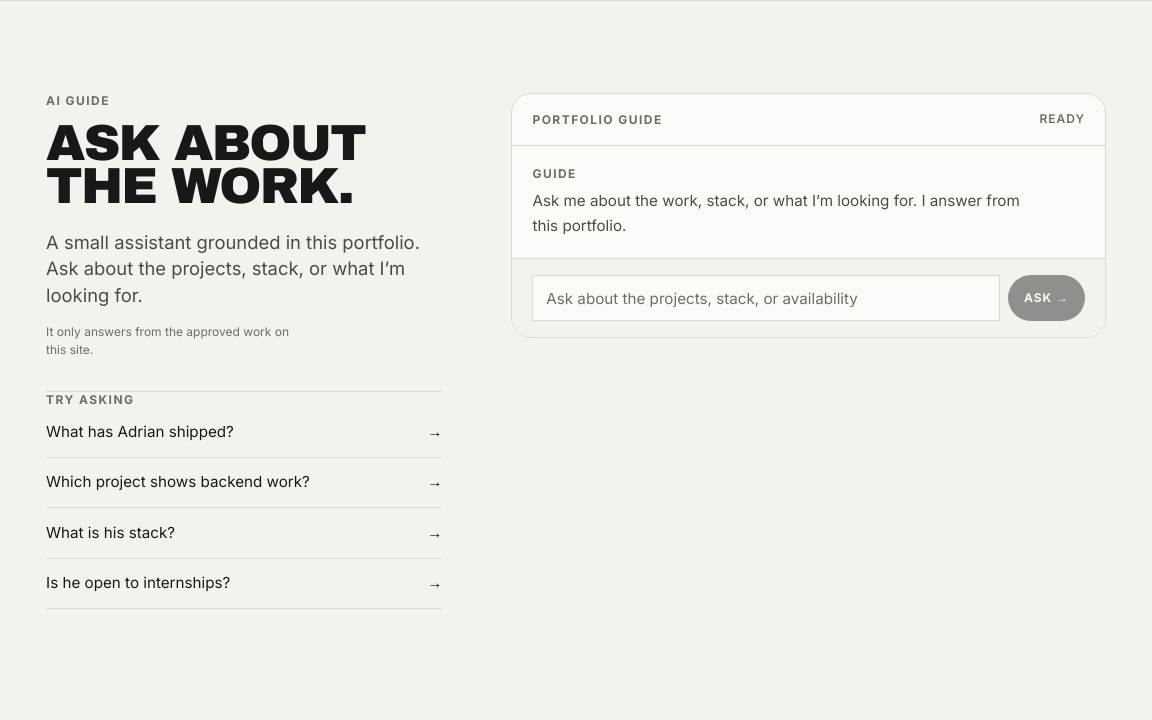
Scenario: AiGuide › sends a suggested question and renders the grounded reply
The image size is (1152, 720).
Step 1. Click the button "Which project shows backend work? →" → (244, 483), box x1=46 y1=458 x2=442 y2=508
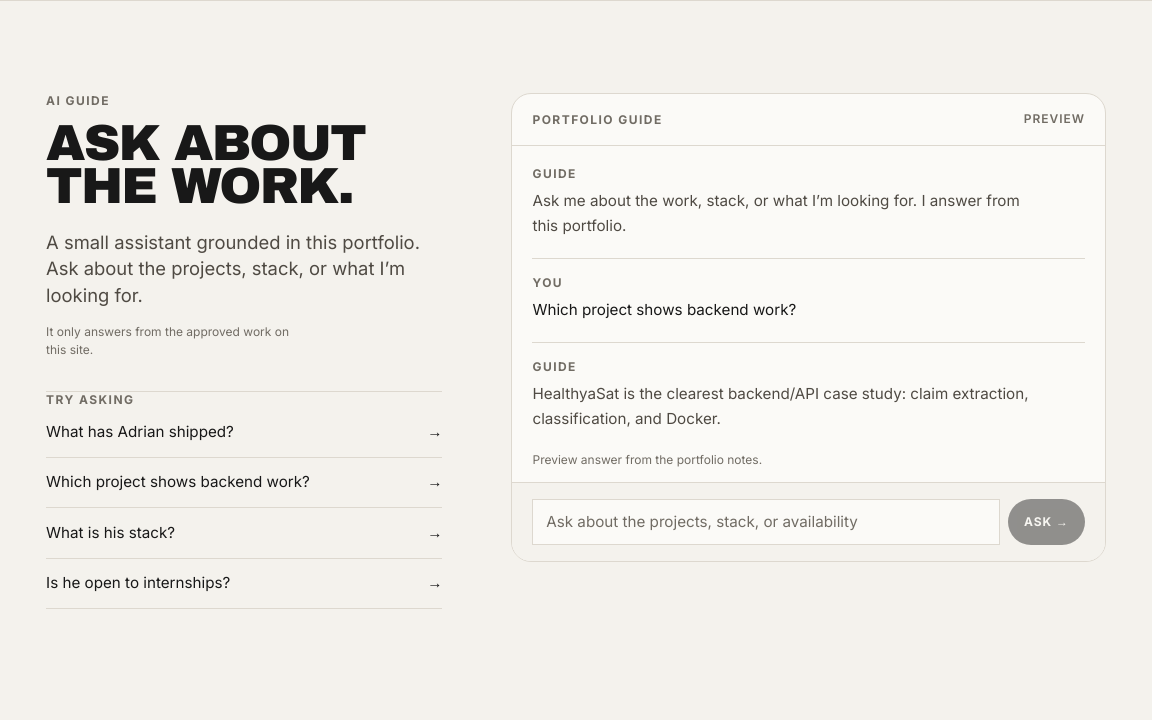
Expected: the text "HealthyaSat is the clearest backend" is shown, x1=532 y1=384 x2=1033 y2=428
Expected: the text "Preview answer from the portfolio notes." is shown, x1=532 y1=452 x2=762 y2=467
